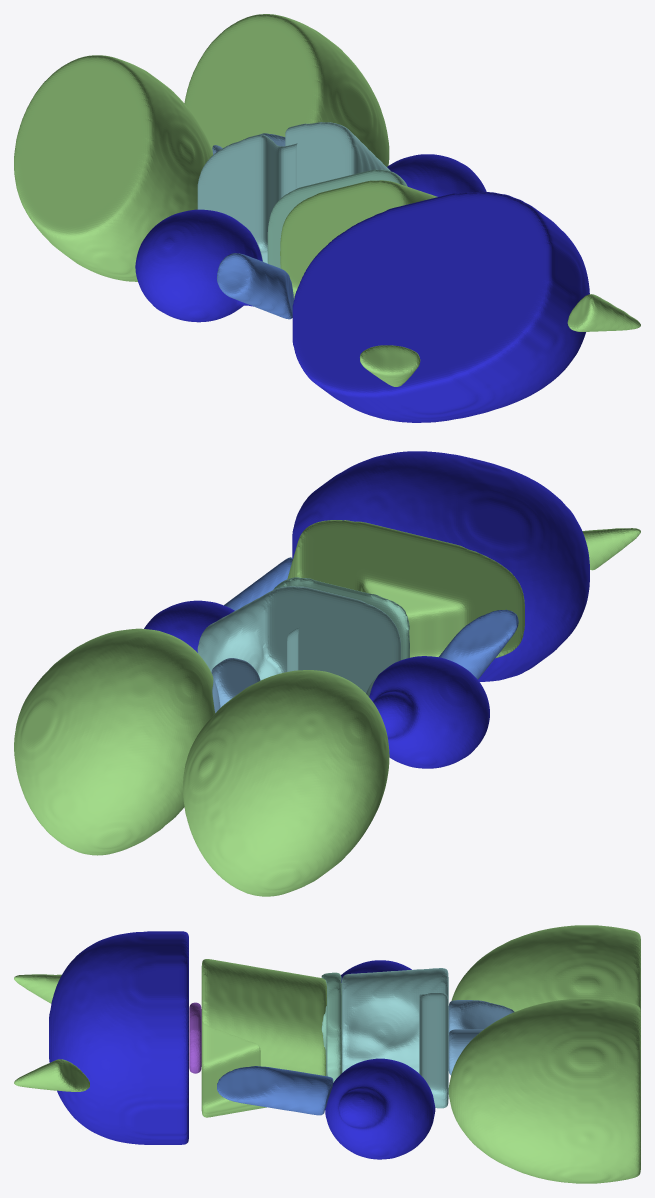
File: sketch_cat_color.glb
The picture shows the model from 3 angles, top to bottom: view 1: azimuth 30°, elevation 25°; view 2: azimuth 150°, elevation 25°; view 3: azimuth 270°, elevation 25°; orthographic projection. The views are drawn at different scales.
Visible parts, largest first — view 1: head, boot_L, boot_R, shorts, glove_L, shirt, arm_L, glove_R, belt, ear_R, ear_L; view 2: boot_L, boot_R, head, shirt, shorts, glove_L, arm_L, glove_R, belt, leg_R, ear_L, arm_R; view 3: boot_R, head, shirt, boot_L, shorts, glove_R, arm_R, belt, ear_R, leg_L, neck, ear_L (+2 smaller).
Boxes of the visible parts, x1,y1,x2,y2 form: head: [292, 191, 589, 422]; boot_L: [14, 55, 212, 281]; boot_R: [184, 14, 389, 166]; shorts: [197, 122, 390, 263]; glove_L: [135, 209, 262, 322]; shirt: [280, 180, 437, 299]; arm_L: [216, 253, 293, 319]; glove_R: [387, 154, 486, 196]; belt: [267, 169, 407, 268]; ear_R: [567, 294, 640, 331]; ear_L: [360, 345, 420, 386]; boot_L: [183, 670, 389, 896]; boot_R: [14, 628, 215, 855]; head: [292, 451, 589, 681]; shirt: [287, 520, 524, 658]; shorts: [197, 586, 400, 696]; glove_L: [369, 656, 489, 768]; arm_L: [439, 609, 518, 679]; glove_R: [144, 600, 234, 652]; belt: [273, 577, 409, 660]; leg_R: [211, 658, 260, 712]; ear_L: [582, 528, 640, 570]; arm_R: [224, 557, 292, 610]; boot_R: [448, 998, 640, 1183]; head: [49, 931, 188, 1144]; shirt: [201, 959, 326, 1117]; boot_L: [451, 925, 640, 1011]; shorts: [342, 968, 448, 1108]; glove_R: [325, 1058, 435, 1159]; arm_R: [217, 1066, 333, 1115]; belt: [321, 972, 341, 1082]; ear_R: [14, 1059, 89, 1091]; leg_L: [448, 1000, 514, 1034]; neck: [189, 1002, 201, 1073]; ear_L: [14, 974, 61, 1003].
Size of the model in its own units: 58.1 by 34.3 by 105.
